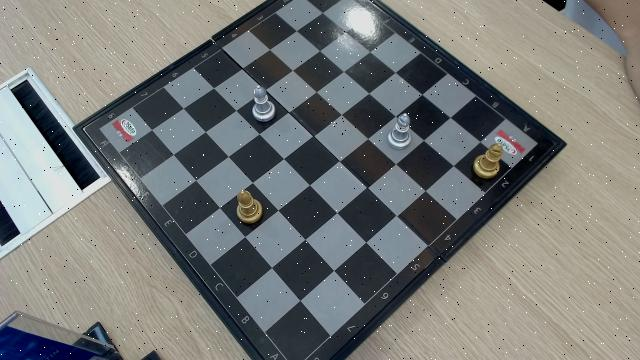black_bishop: (473, 141, 504, 178), (235, 189, 263, 224)
white_bishop: (250, 84, 274, 121), (388, 111, 410, 150)
